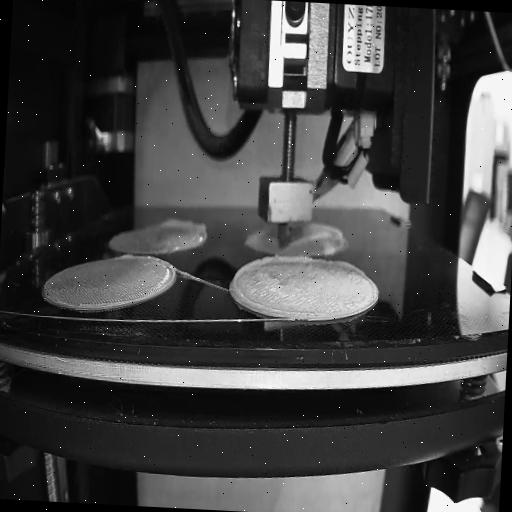over_extrusion: (230, 250, 316, 320), (157, 216, 209, 242), (334, 254, 368, 282), (115, 250, 139, 263)
